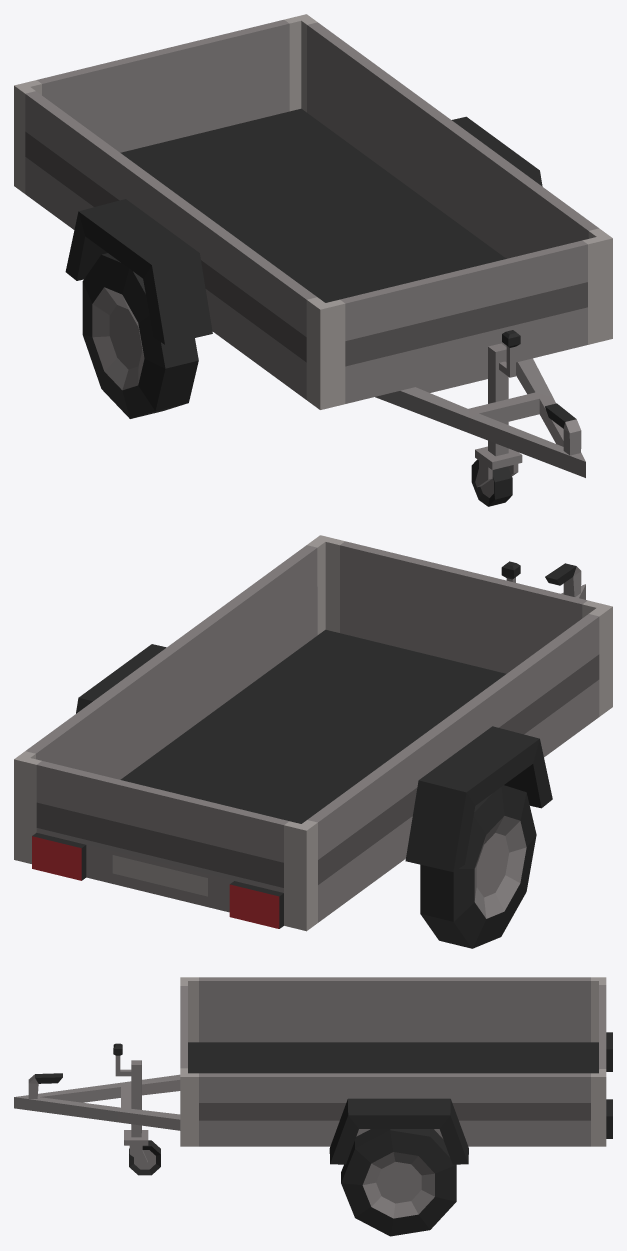
The model's file is vehicles-trailer-small-standing.glb.
3 views of the same model, one above another, from view 1: azimuth 30°, elevation 25°; view 2: azimuth 150°, elevation 25°; view 3: azimuth 270°, elevation 25° (orthographic). The views are drawn at different scales.
Parts seen in each view (by area): view 1: trailer-small-standing; view 2: trailer-small-standing; view 3: trailer-small-standing.
Part boxes in pixels (x1,y1,x2,y2): trailer-small-standing: (14, 14, 612, 506); trailer-small-standing: (14, 535, 612, 948); trailer-small-standing: (14, 977, 612, 1236).
Bounding box in the file's own units: 1.47 × 0.7578 × 2.81.
